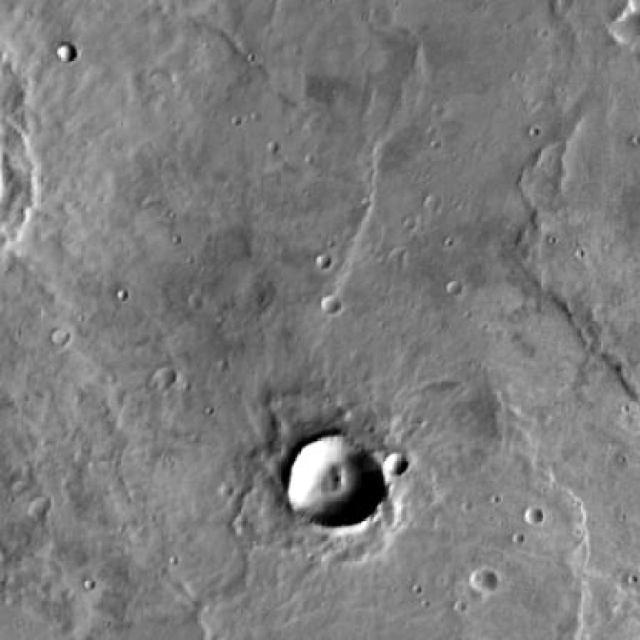crater: (290, 434, 387, 528), (604, 10, 640, 44), (383, 450, 406, 473), (29, 496, 51, 516), (474, 572, 495, 592), (156, 367, 176, 385), (522, 508, 541, 526), (320, 298, 338, 316), (55, 44, 74, 61), (50, 328, 67, 344)
